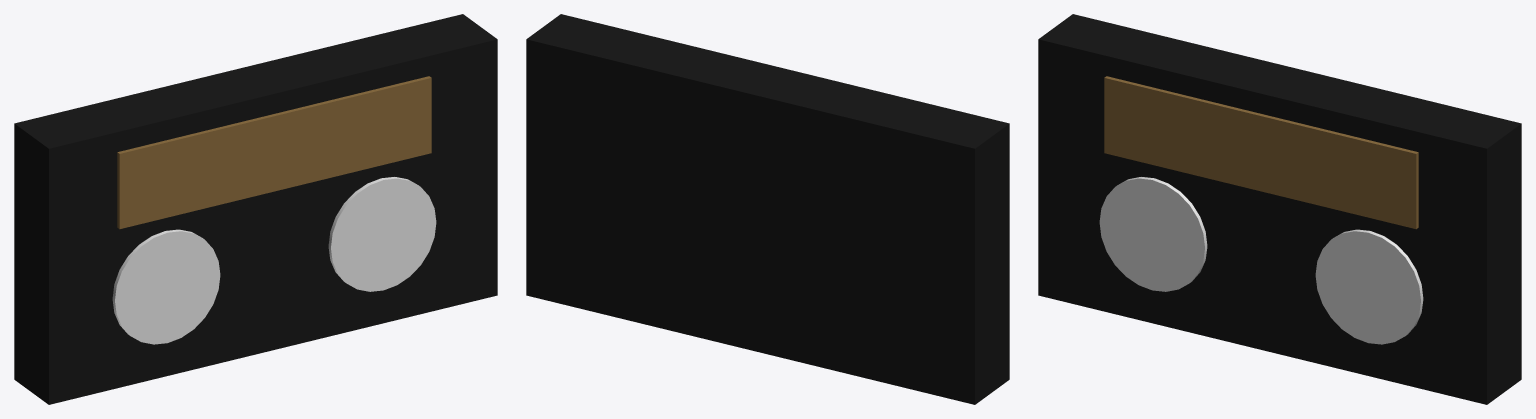
File: vhs-6.glb
3 views of the same model, side by side, from view 1: azimuth 30°, elevation 25°; view 2: azimuth 150°, elevation 25°; view 3: azimuth 330°, elevation 25° (orthographic).
Size of the model in its own units: 0.187 by 0.102 by 0.0267.
